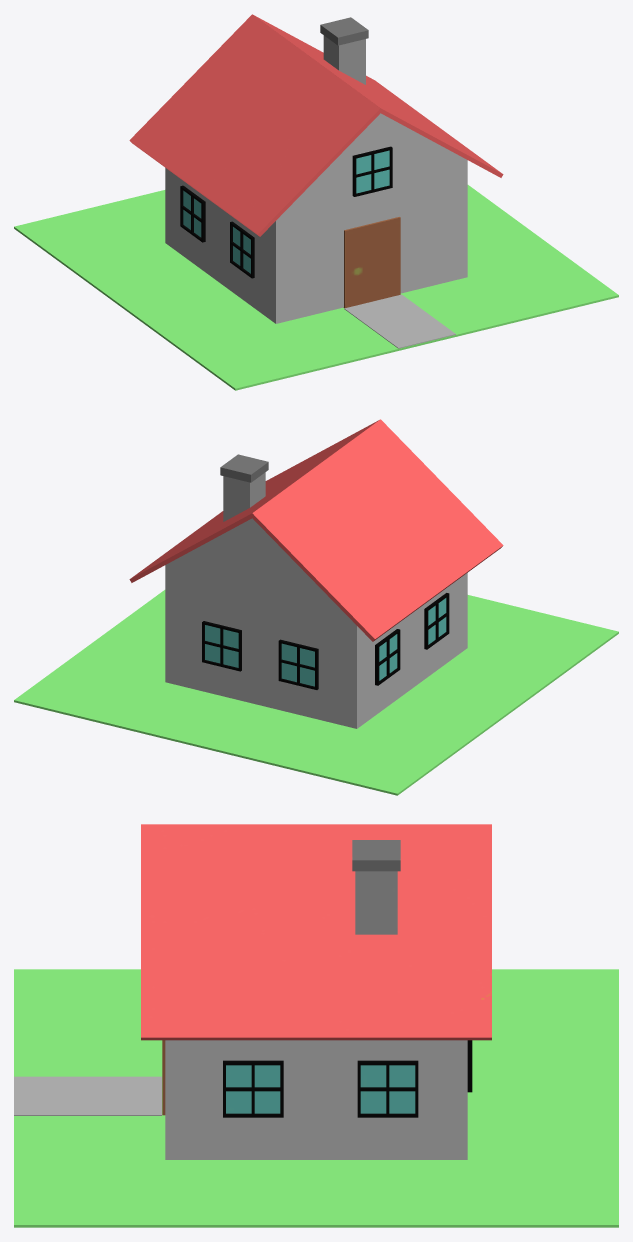
The model's file is house1_grey.gltf.
3 renders of one model, top to bottom at view 1: azimuth 30°, elevation 25°; view 2: azimuth 150°, elevation 25°; view 3: azimuth 270°, elevation 25°, orthographic. The views are drawn at different scales.
Visible parts, largest first — view 1: Cube, house.002, house_cube, house.001, house.005, house.003, house.056, house.004, house.007, house.006; view 2: Cube, house.002, house_cube, house.001, house.003, house.004, house.035, house.042, house.006, house.021, house.049; view 3: Cube, house.003, house_cube, house.056, house.004, house.028, house.014, house.006.
Part boxes in pixels (bbox=[...]): Cube: bbox=[14, 185, 618, 390]; house.002: bbox=[129, 14, 382, 236]; house_cube: bbox=[165, 159, 467, 323]; house.001: bbox=[295, 113, 465, 200]; house.005: bbox=[343, 217, 400, 308]; house.003: bbox=[253, 15, 503, 177]; house.056: bbox=[344, 294, 455, 348]; house.004: bbox=[323, 35, 365, 84]; house.007: bbox=[356, 150, 389, 193]; house.006: bbox=[320, 17, 368, 45]; Cube: bbox=[14, 590, 618, 795]; house.002: bbox=[250, 419, 503, 641]; house_cube: bbox=[165, 564, 467, 728]; house.001: bbox=[167, 518, 337, 605]; house.003: bbox=[129, 420, 379, 582]; house.004: bbox=[223, 472, 265, 521]; house.035: bbox=[205, 625, 238, 667]; house.042: bbox=[281, 643, 314, 686]; house.006: bbox=[220, 454, 268, 482]; house.021: bbox=[428, 598, 446, 644]; house.049: bbox=[379, 634, 397, 680]; Cube: bbox=[14, 969, 618, 1227]; house.003: bbox=[141, 824, 491, 1040]; house_cube: bbox=[165, 1040, 467, 1159]; house.056: bbox=[14, 1076, 161, 1115]; house.004: bbox=[355, 871, 397, 934]; house.028: bbox=[360, 1065, 415, 1113]; house.014: bbox=[226, 1065, 280, 1113]; house.006: bbox=[352, 840, 400, 871].
Size of the model in its own units: 20 by 10.32 by 20.
2 materials, 2 textured.
